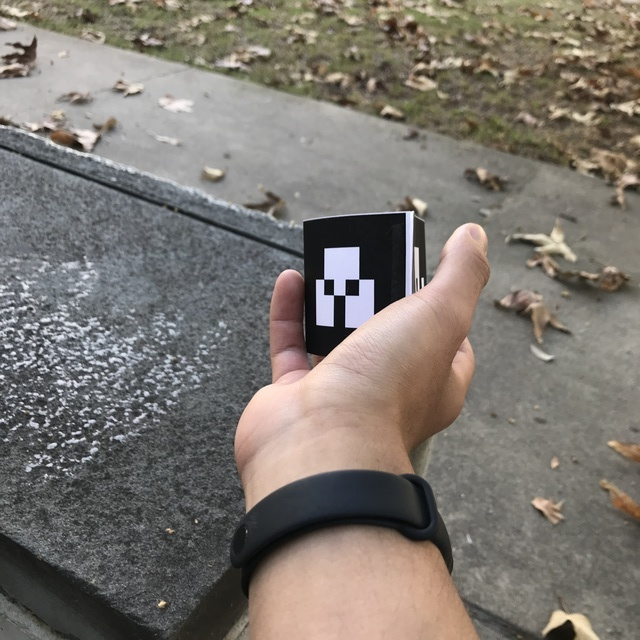ARTag: (302, 211, 429, 358)
